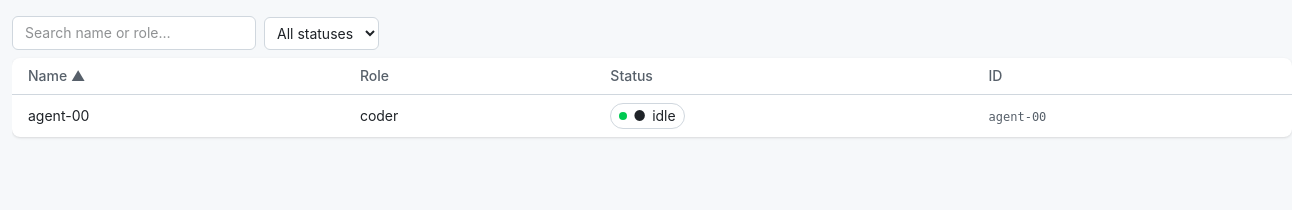
it: Table UX (w3-tables) › agents roster shows a no-match empty state
In the search field named "Search agents": (134, 33) [12,16,256,50], type "zzz-no-such-agent"
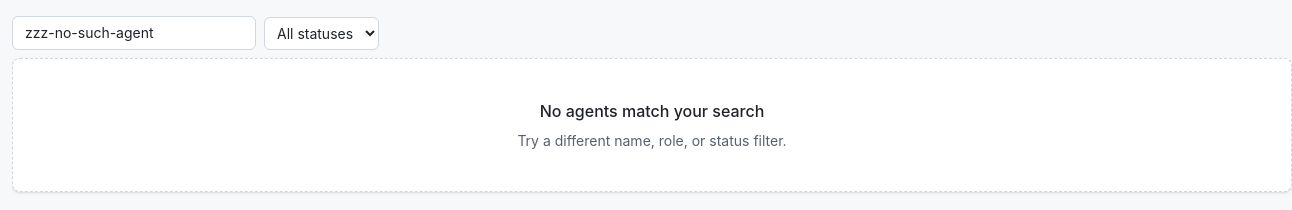
Expected: the text "No agents match your search" is shown, [540,99,764,123]
